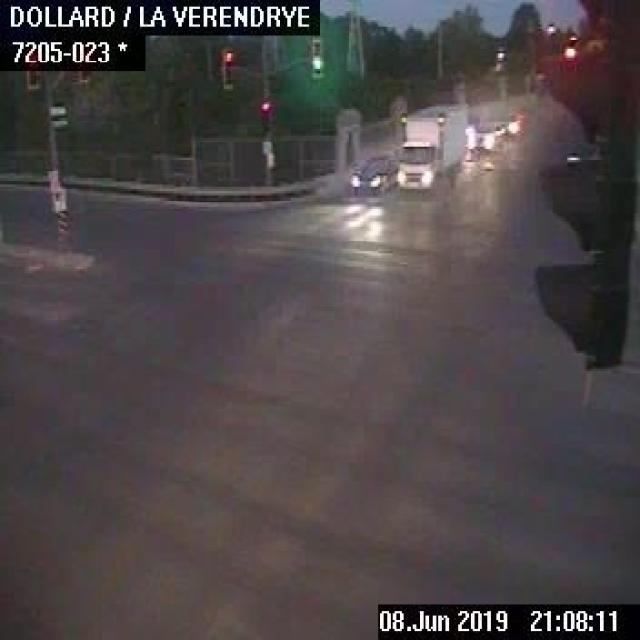vehicle: (396, 98, 466, 197), (344, 152, 395, 195), (465, 117, 500, 159), (494, 110, 522, 136)
